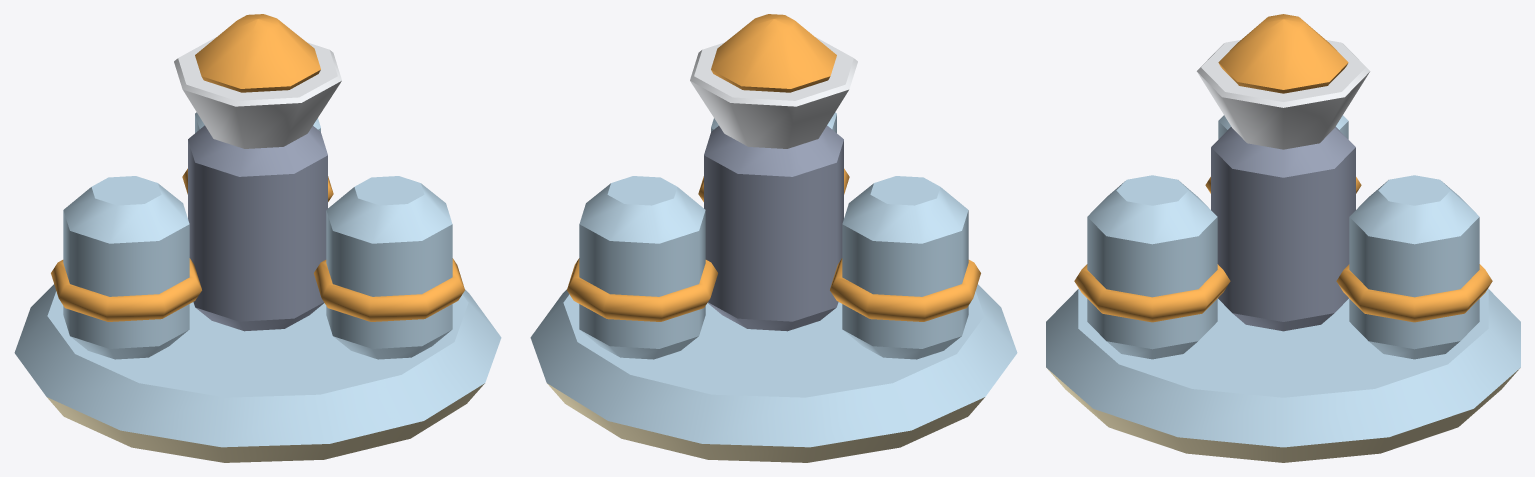
File: R4D_BurnTrap.glb
3 views of the same model, side by side, from view 1: azimuth 30°, elevation 25°; view 2: azimuth 150°, elevation 25°; view 3: azimuth 270°, elevation 25° (orthographic).
Parts seen in each view (by area): view 1: R4D_BurnTrap_Body, R4D_BurnTrap_Flame; view 2: R4D_BurnTrap_Body, R4D_BurnTrap_Flame; view 3: R4D_BurnTrap_Body, R4D_BurnTrap_Flame.
Boxes of the visible parts, <box> form: R4D_BurnTrap_Body: <box>14,37,501,462</box>; R4D_BurnTrap_Flame: <box>195,14,320,92</box>; R4D_BurnTrap_Body: <box>530,37,1017,462</box>; R4D_BurnTrap_Flame: <box>711,14,836,92</box>; R4D_BurnTrap_Body: <box>1046,40,1520,462</box>; R4D_BurnTrap_Flame: <box>1218,14,1348,93</box>.
Size of the model in its own units: 0.37 by 0.2928 by 0.3607.
